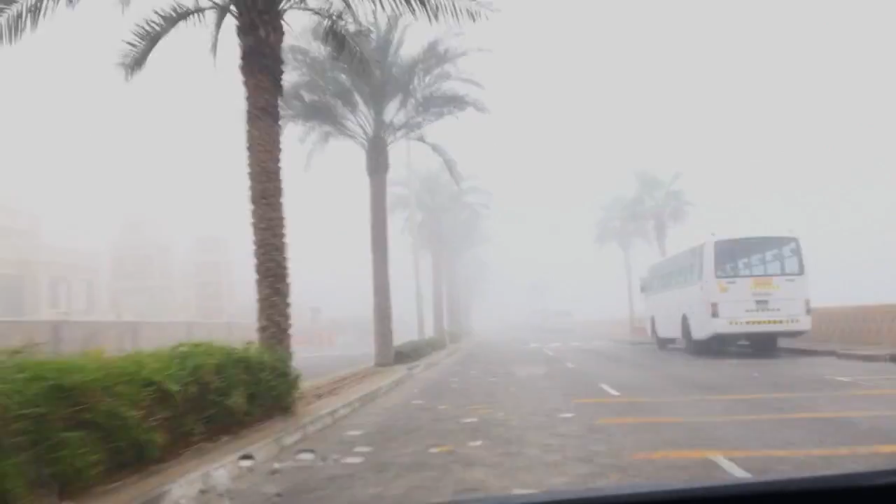bus: (637, 226, 815, 360)
